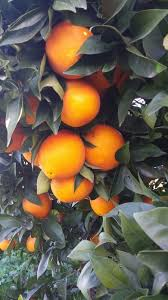orange: (39, 20, 100, 76), (74, 117, 129, 167), (34, 129, 86, 179), (54, 77, 101, 125), (50, 169, 97, 202), (88, 184, 123, 216), (18, 188, 51, 216)
